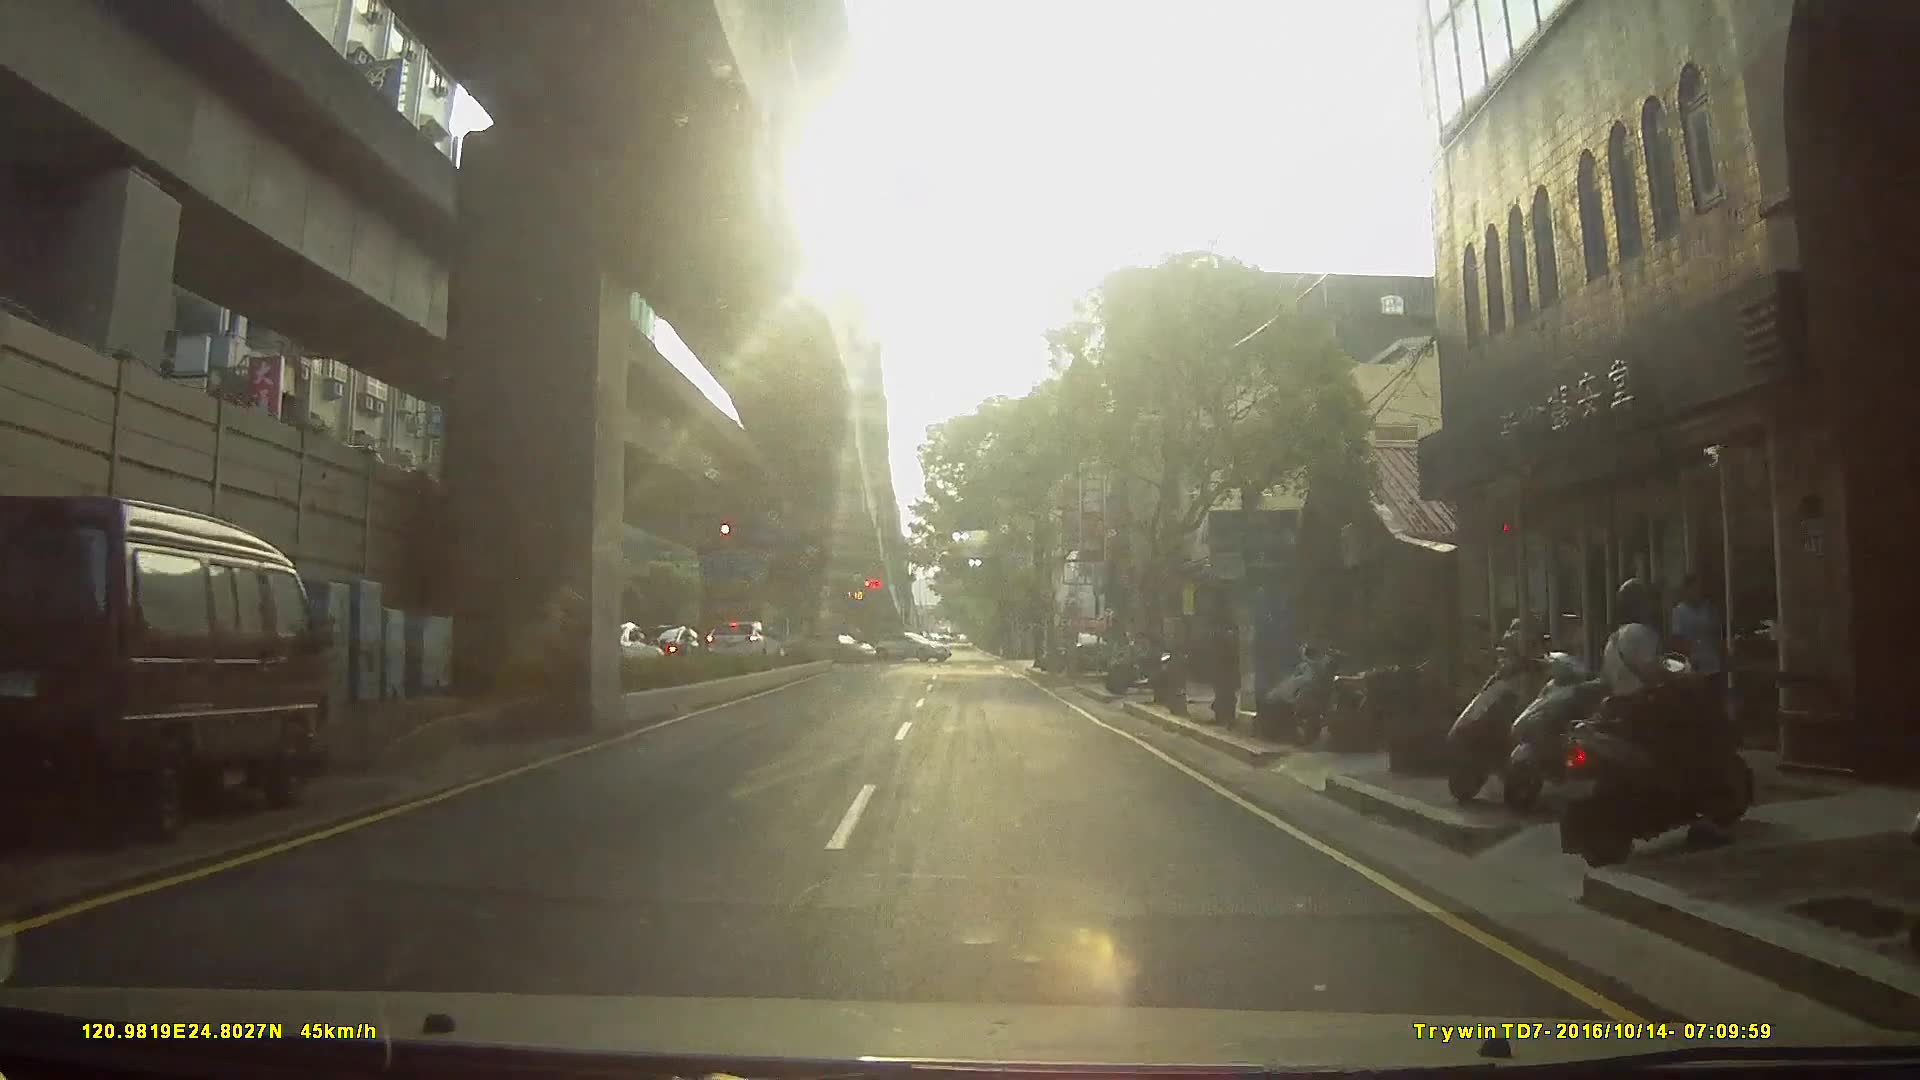pedestrian: (1665, 565, 1736, 774)
rider: (1563, 580, 1782, 856)
vehicle: (2, 481, 357, 860), (781, 628, 879, 666), (704, 617, 780, 663), (1064, 625, 1118, 674), (873, 630, 954, 660)
